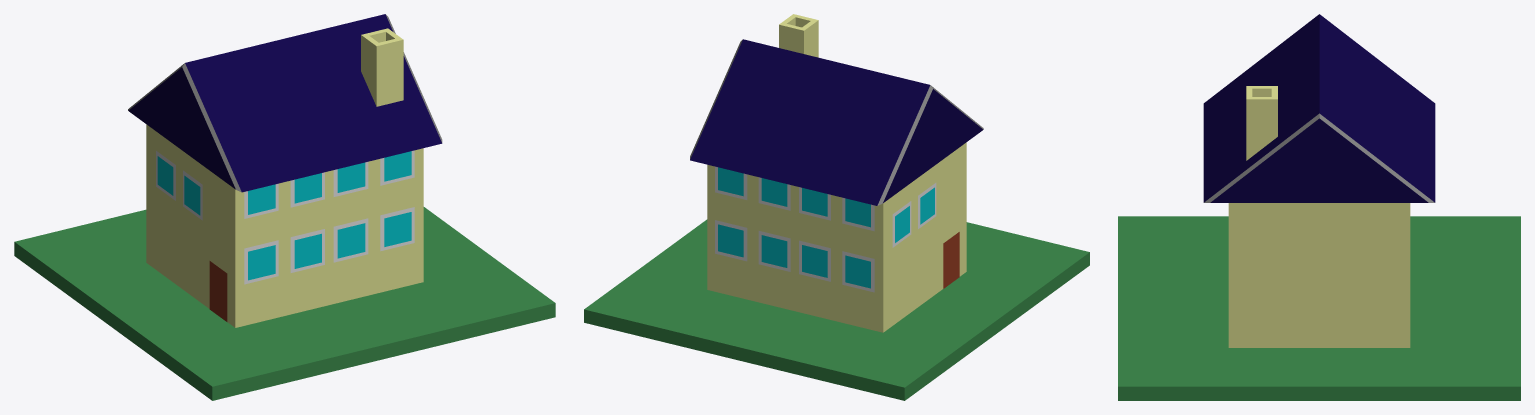
File: casaalt.fbx
3 views of the same model, side by side, from view 1: azimuth 30°, elevation 25°; view 2: azimuth 150°, elevation 25°; view 3: azimuth 270°, elevation 25° (orthographic). The views are drawn at different scales.
Visible parts, largest first — view 1: Cube, Cube.002, Cube.001, Cube.003, Plane.006, Plane.030, Plane.032, Plane.031, Plane.029, Plane.035, Plane.034, Plane.033 (+7 smaller); view 2: Cube, Cube.002, Cube.001, Cube.003, Plane.006, Plane.009, Plane.010, Plane.008, Plane.007, Plane.001, Plane, Plane.002 (+5 smaller); view 3: Cube, Cube.002, Cube.001, Cube.003.
Boxes of the visible parts, box(x1,y1,x2,y2) form: Cube: box(14, 207, 555, 400); Cube.002: box(128, 14, 442, 192); Cube.001: box(146, 28, 423, 327); Cube.003: box(128, 14, 442, 192); Plane.006: box(209, 261, 227, 321); Plane.030: box(337, 223, 365, 258); Plane.032: box(294, 233, 321, 268); Plane.031: box(248, 245, 275, 280); Plane.029: box(384, 212, 411, 246); Plane.035: box(337, 162, 365, 192); Plane.034: box(248, 184, 275, 214); Plane.033: box(294, 173, 321, 203); Cube: box(584, 219, 1089, 400); Cube.002: box(690, 39, 983, 205); Cube.001: box(707, 14, 966, 332); Cube.003: box(690, 39, 983, 205); Plane.006: box(943, 232, 959, 288); Plane.009: box(761, 235, 787, 267); Plane.010: box(718, 224, 743, 257); Plane.008: box(845, 255, 870, 288); Plane.007: box(802, 245, 827, 277); Plane.001: box(761, 178, 787, 206); Plane: box(718, 167, 743, 196); Plane.002: box(845, 198, 870, 227); Cube: box(1118, 216, 1520, 400); Cube.002: box(1203, 14, 1435, 202); Cube.001: box(1228, 86, 1410, 347); Cube.003: box(1204, 113, 1434, 202).
Bounding box in the file's own units: 200 × 160 × 200.
